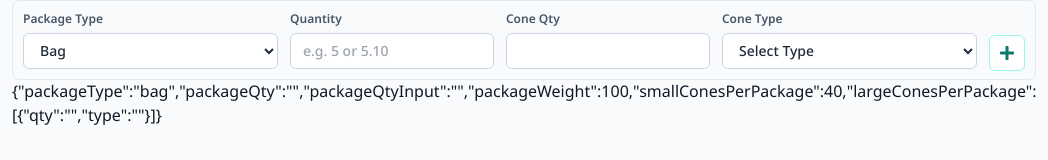
string shorthand preserves 5.10 and commits five packages plus ten untyped cones
Type "5.10" into the field named "Package Quantity" at {"x": 392, "y": 51}, box x1=290 y1=33 x2=494 y2=69
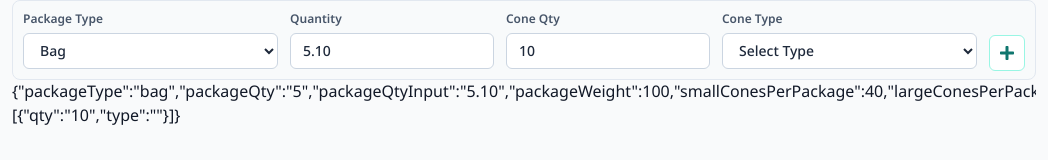
Expected: the field named "Cone Qty 1" holds "10", x1=506 y1=33 x2=710 y2=69
Leave the field named "Package Quantity", box x1=290 y1=33 x2=494 y2=69
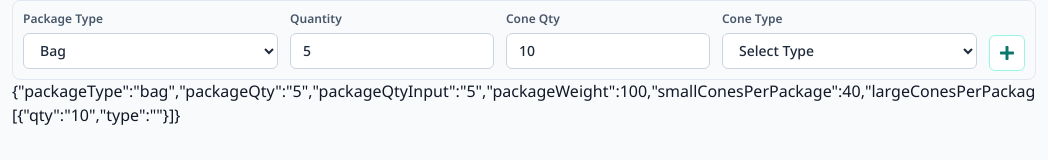
Expected: the field named "Package Quantity" holds "5", x1=290 y1=33 x2=494 y2=69
